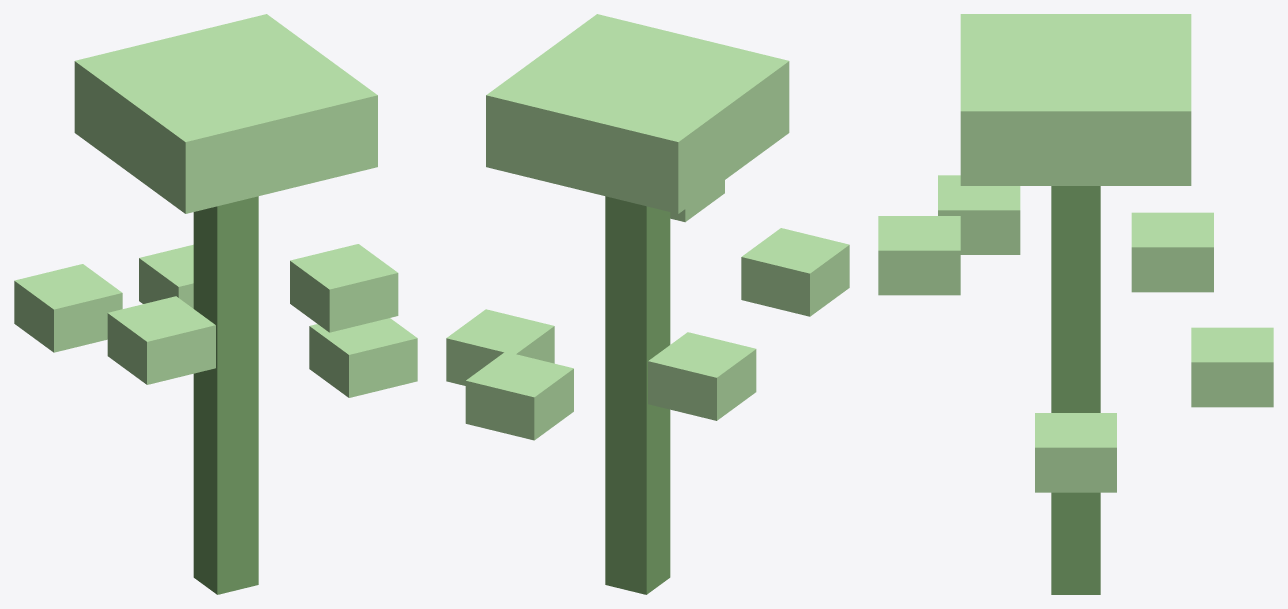
File: Prop_DS_Herb_DefragMoss_S3_V2.glb
3 views of the same model, side by side, from view 1: azimuth 30°, elevation 25°; view 2: azimuth 150°, elevation 25°; view 3: azimuth 270°, elevation 25° (orthographic). The views are drawn at different scales.
Visible parts, largest first — view 1: Prop_DS_Herb_DefragMoss_S3_V2; view 2: Prop_DS_Herb_DefragMoss_S3_V2; view 3: Prop_DS_Herb_DefragMoss_S3_V2.
Part boxes in pixels (<box>): Prop_DS_Herb_DefragMoss_S3_V2: <box>14,14,417,594</box>; Prop_DS_Herb_DefragMoss_S3_V2: <box>446,14,849,594</box>; Prop_DS_Herb_DefragMoss_S3_V2: <box>878,14,1273,594</box>.
Size of the model in its own units: 0.4618 by 0.7 by 0.4804.
